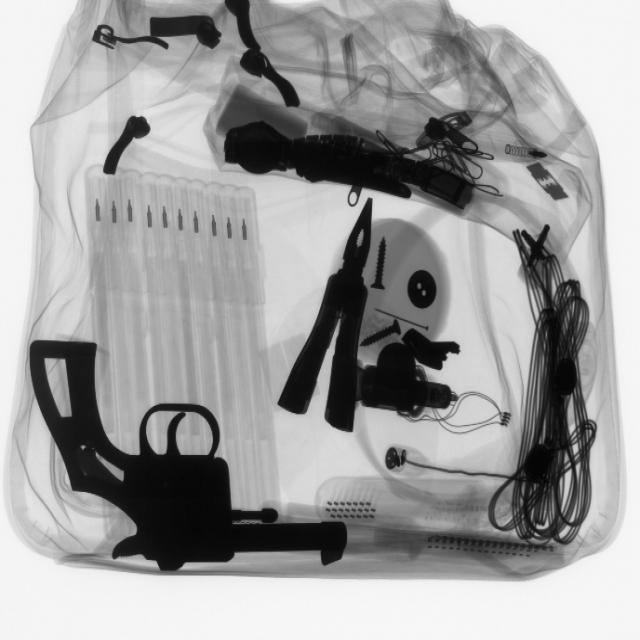BLADE: (526, 157, 571, 205)
GUN: (34, 337, 352, 570)
